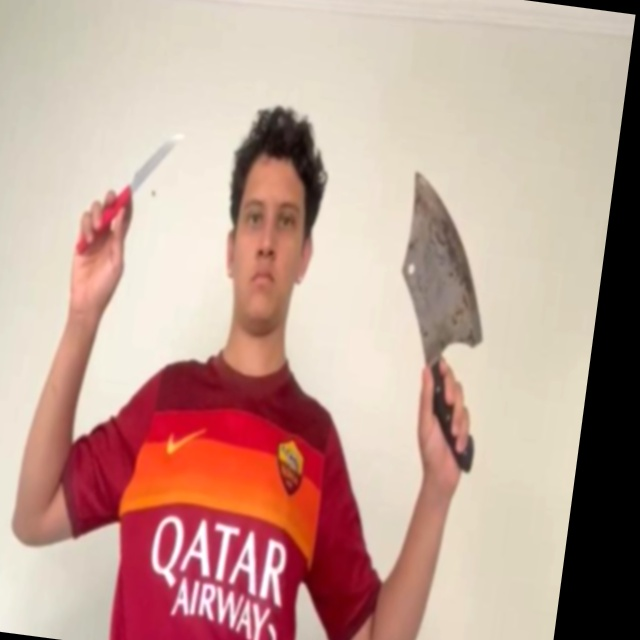Sharp-Object: (391, 171, 506, 358), (128, 123, 187, 198)
